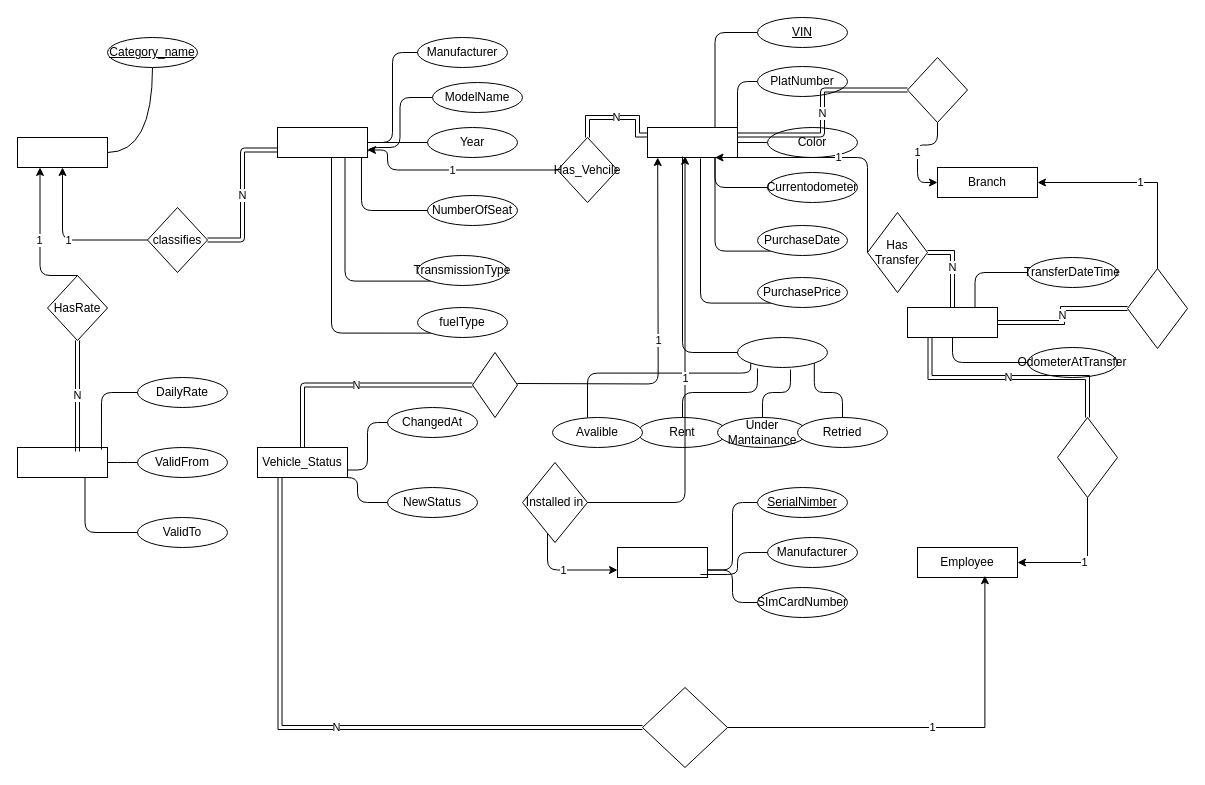
Some shapes in this 1205 by 785 pixel diagram are drawn without their labels. The shapes that lost their labels are listed below. From the top down, each one's centre as x and y in pixels, then its label:
At point (937, 89): "Registers".
At point (62, 152): "Category".
At point (322, 142): "Car_Model".
At point (692, 142): "Vehicle".
At point (952, 322): "Vehicle_Transfer".
At point (1157, 308): "ٍSource Branch".
At point (782, 352): "Status".
At point (495, 385): "Has History".
At point (62, 462): "Category_Rate".
At point (1087, 457): "Drives".
At point (662, 562): "Gps_Devices".
At point (685, 727): "Changes Status".
